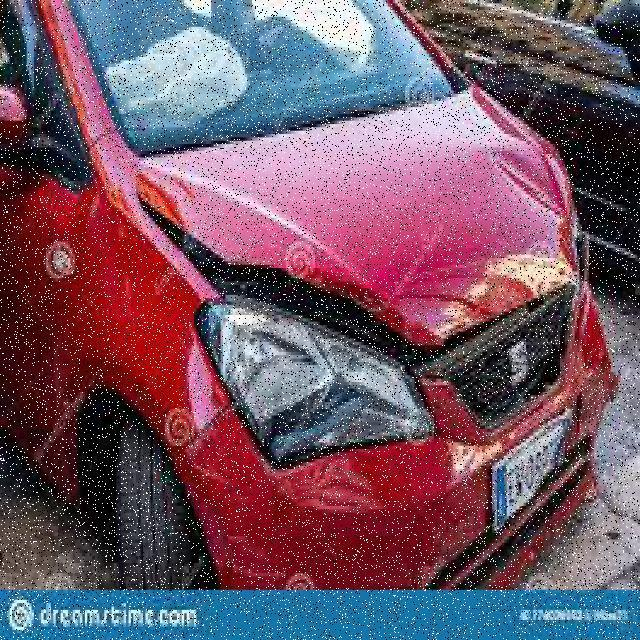bonnet-dent: (171, 98, 588, 350)
front-bumper-dent: (189, 442, 521, 590)
